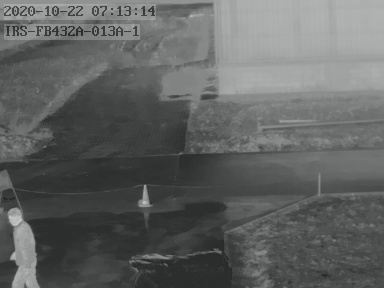person: (6, 206, 39, 288)
